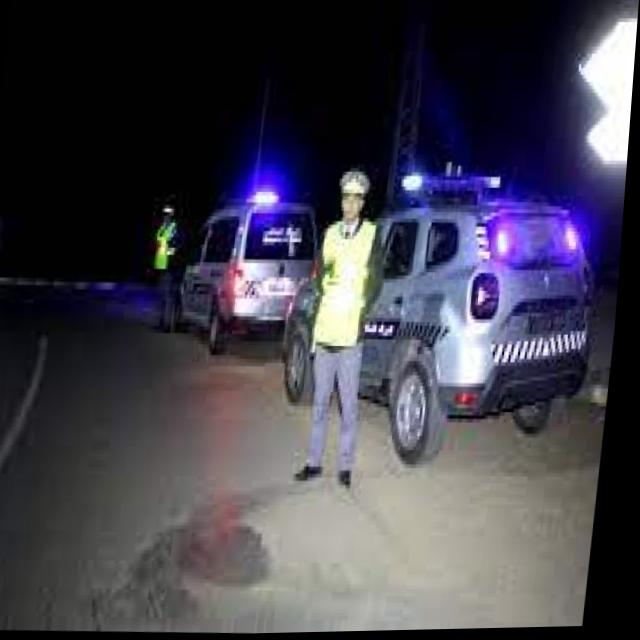gendarme car: (272, 154, 618, 479)
